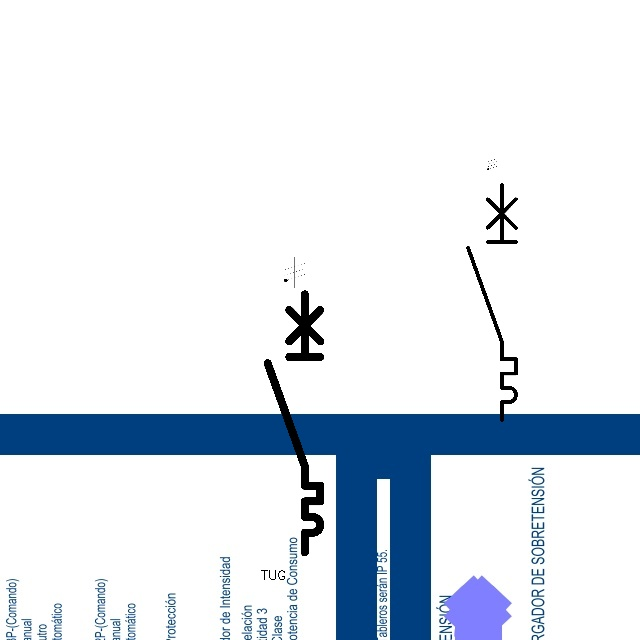interruptor_termomagnetico: (261, 287, 327, 558), (462, 179, 522, 426)
